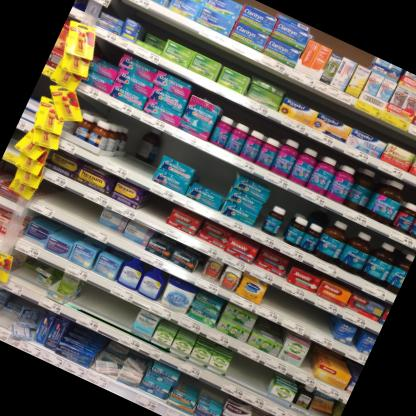empty_space: (258, 286, 340, 341), (35, 179, 106, 230), (74, 277, 142, 329), (118, 125, 171, 180), (223, 353, 276, 395), (139, 192, 176, 229), (0, 291, 27, 331)
